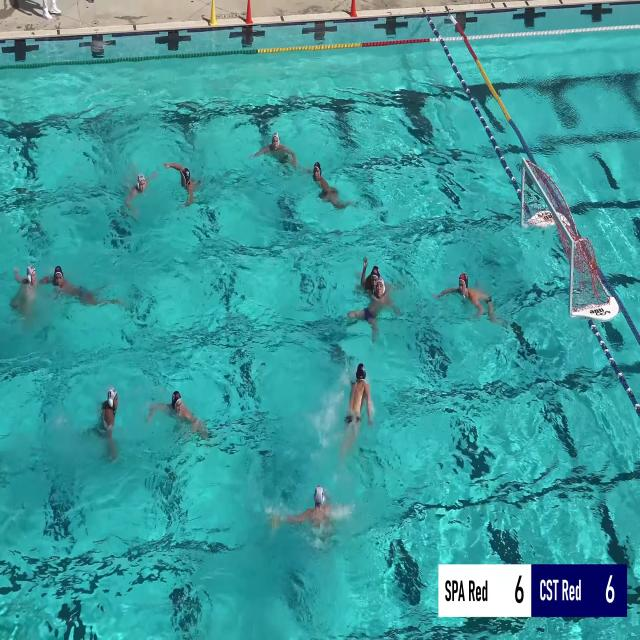ball: (270, 513, 282, 528)
